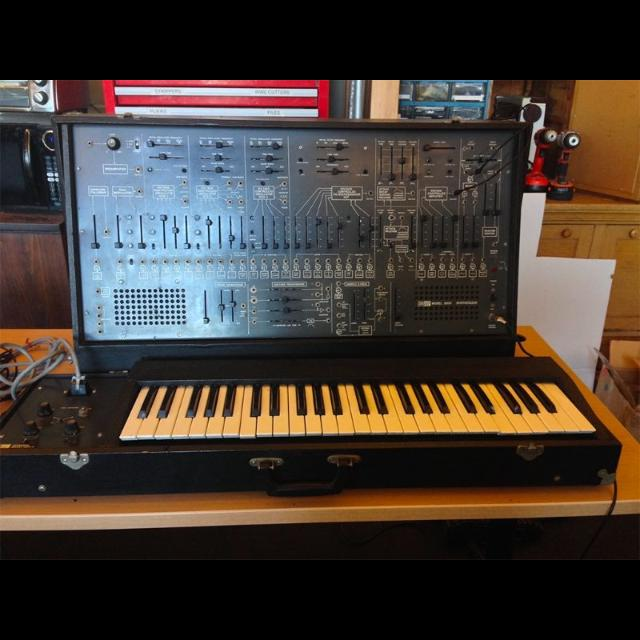Electronic-Keyboard: (29, 124, 623, 500)
